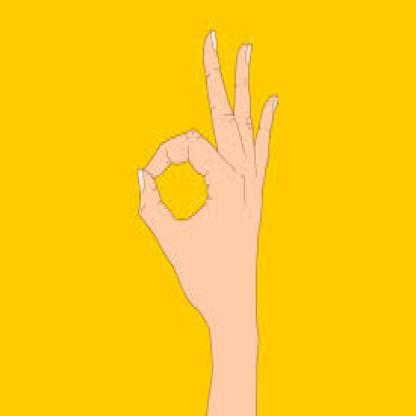ok: (132, 28, 282, 302)
